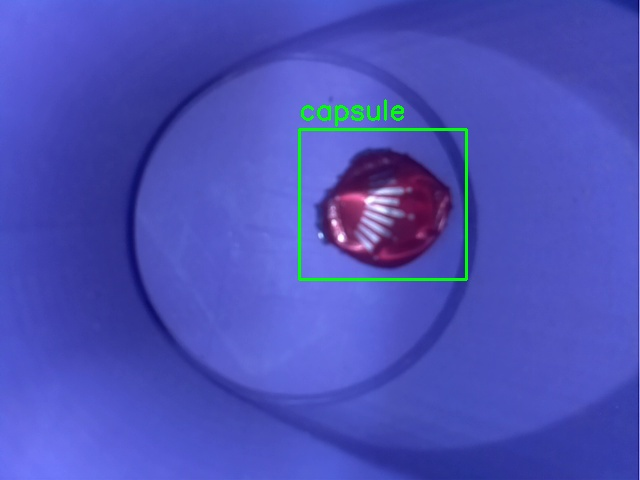capsule: (299, 129, 466, 279)
